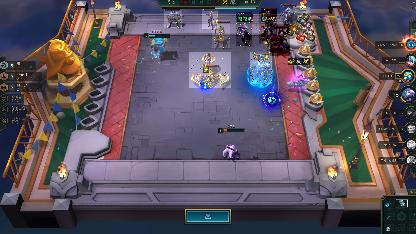1_soraka: (261, 8, 277, 14)
1_sylas: (164, 10, 182, 28)
1_zyra: (202, 9, 218, 29)
2_soraka: (236, 12, 252, 46), (280, 3, 296, 25)
2_sylas: (250, 52, 272, 84)
3_nidalee: (212, 20, 230, 48)
3_skarner: (189, 52, 231, 88)
3_varus: (259, 12, 277, 44)
3_vladimir: (270, 24, 290, 56)
